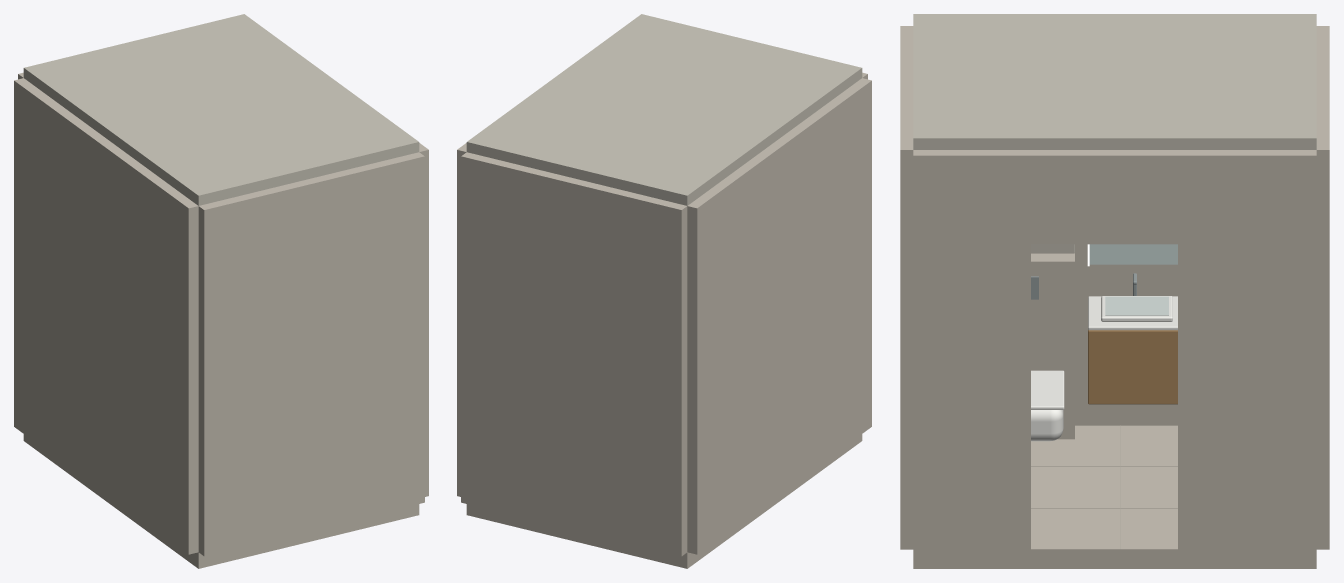
The model's file is a3-lighting.glb.
The picture shows the model from 3 angles, left to right: view 1: azimuth 30°, elevation 25°; view 2: azimuth 150°, elevation 25°; view 3: azimuth 270°, elevation 25°; orthographic projection. The views are drawn at different scales.
Parts seen in each view (by area): view 1: A3-wall-south-3, A3-wall-west-1, A3-ceiling-4, A3-floor-0, A3-wall-east-2-6; view 2: A3-wall-north-2, A3-wall-west-1, A3-ceiling-4, A3-floor-0, A3-wall-east-1-5; view 3: A3-wall-east-1-5, A3-ceiling-4, A3-wall-east-2-6, A3-floor-0, A3-wall-east-lintel-7, A3-wall-north-2, A3-wall-south-3, A3-wall-west-1, A3-vanity-27, A3-WC-frame-23, A3-mirror-46, A3-WC-seat-25 (+4 smaller).
Part boxes in pixels (left/top/right/bottom): A3-wall-south-3: left=198, top=152, right=424, bottom=556; A3-wall-west-1: left=14, top=78, right=198, bottom=554; A3-ceiling-4: left=23, top=14, right=419, bottom=205; A3-floor-0: left=23, top=434, right=419, bottom=568; A3-wall-east-2-6: left=419, top=143, right=428, bottom=496; A3-wall-north-2: left=461, top=152, right=687, bottom=556; A3-wall-west-1: left=687, top=78, right=871, bottom=554; A3-ceiling-4: left=466, top=14, right=862, bottom=205; A3-floor-0: left=466, top=434, right=862, bottom=568; A3-wall-east-1-5: left=457, top=143, right=466, bottom=496; A3-wall-east-1-5: left=1178, top=150, right=1316, bottom=555; A3-ceiling-4: left=913, top=14, right=1316, bottom=149; A3-wall-east-2-6: left=913, top=150, right=1030, bottom=555; A3-floor-0: left=913, top=425, right=1316, bottom=568; A3-wall-east-lintel-7: left=1031, top=150, right=1177, bottom=244; A3-wall-north-2: left=1316, top=26, right=1329, bottom=549; A3-wall-south-3: left=900, top=26, right=913, bottom=549; A3-wall-west-1: left=1075, top=244, right=1177, bottom=425; A3-vanity-27: left=1088, top=330, right=1177, bottom=404; A3-WC-frame-23: left=1031, top=253, right=1074, bottom=439; A3-mirror-46: left=1089, top=244, right=1177, bottom=264; A3-WC-seat-25: left=1031, top=370, right=1064, bottom=409.
Bounding box in the file's own units: 1.96 × 2.91 × 2.63.
